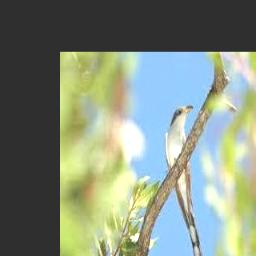Cuckoo: (165, 106, 204, 256)
